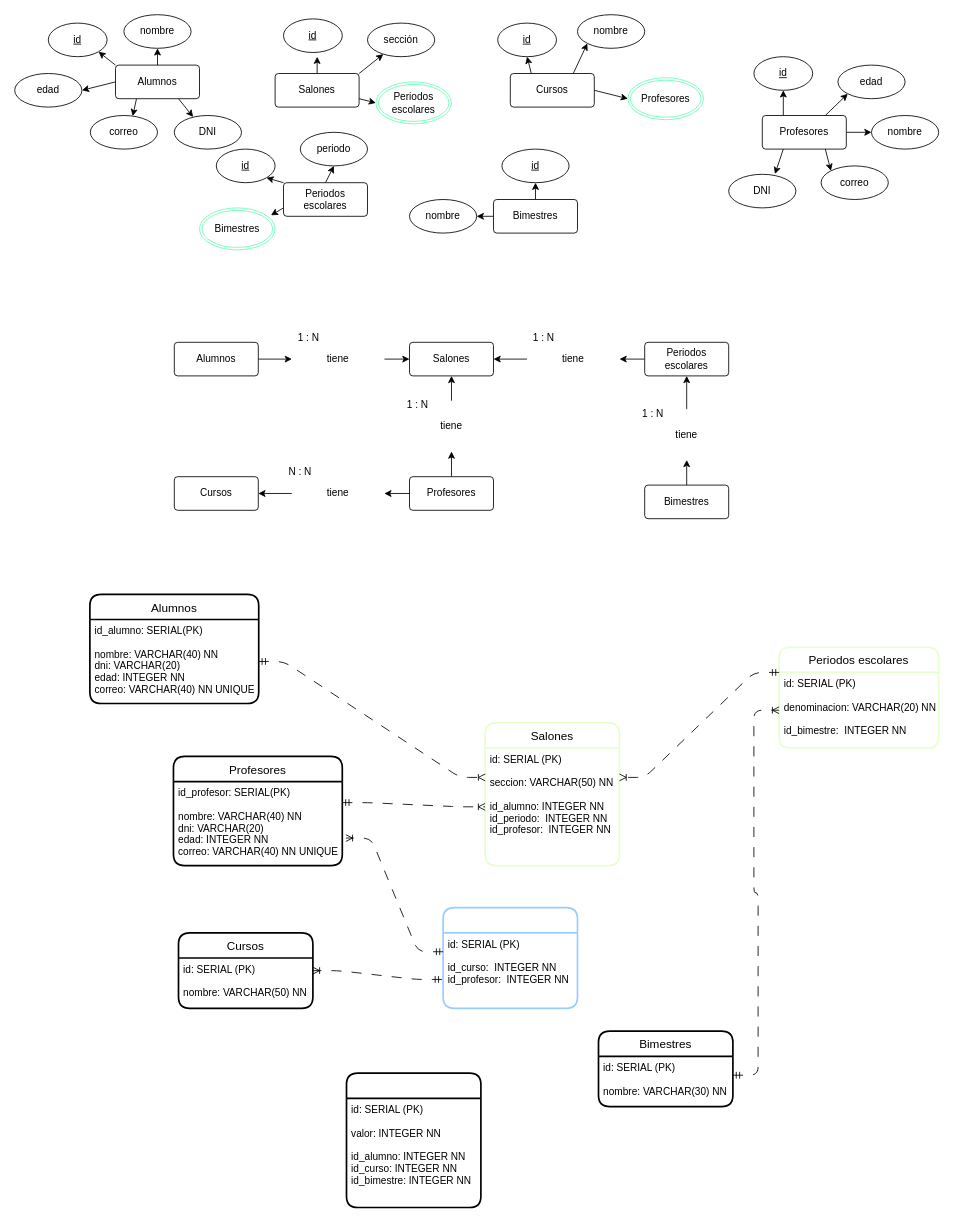
The diagram is 954 pixels wide and 1223 high, and some of its shapes have lost their labels. The box of each missing label's shape, as (x1, y1, x2, y2) in pixels:
Cursos_Profesores: (442, 906, 578, 1009)
Notas: (345, 1072, 481, 1208)
